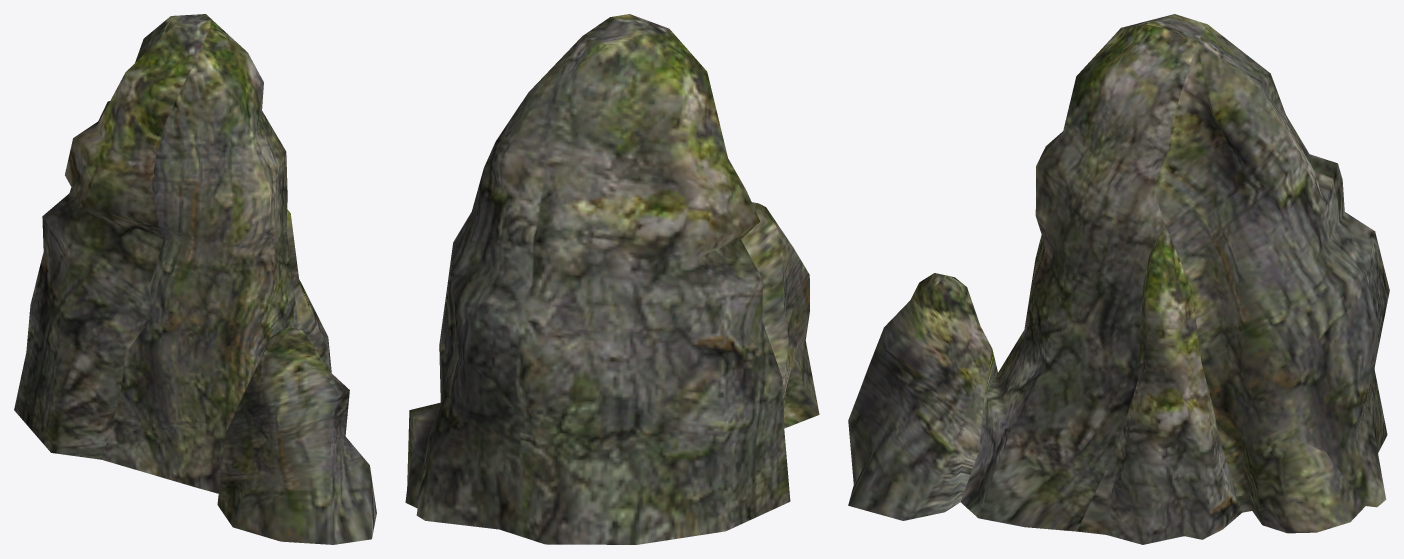
File: S_Rock_Green023.FBX
3 views of the same model, side by side, from view 1: azimuth 30°, elevation 25°; view 2: azimuth 150°, elevation 25°; view 3: azimuth 270°, elevation 25° (orthographic). The views are drawn at different scales.
Parts seen in each view (by area): view 1: green_rock023; view 2: green_rock023; view 3: green_rock023.
Boxes of the visible parts, x1,y1,x2,y2 form: green_rock023: (14, 14, 376, 544); green_rock023: (405, 14, 819, 544); green_rock023: (848, 14, 1389, 544).
Size of the model in its own units: 327 by 500 by 476.
